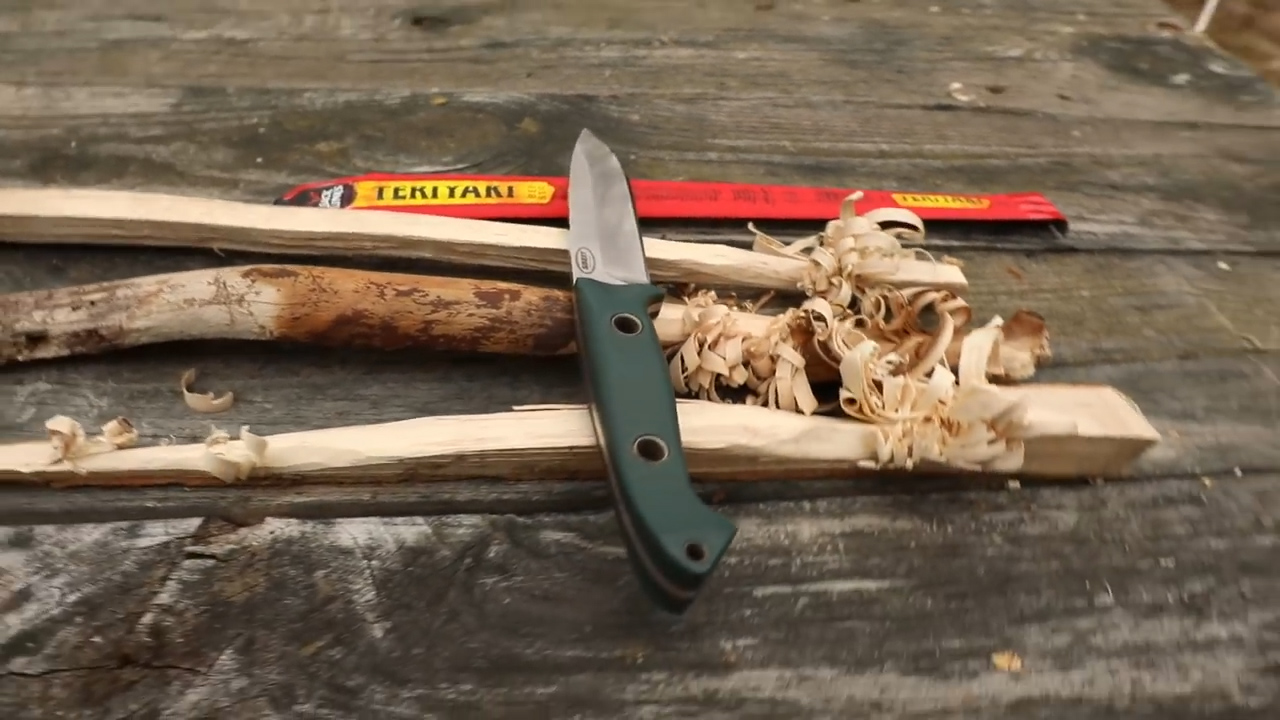knife: (558, 108, 689, 381)
